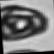correct: (0, 0, 51, 42)
